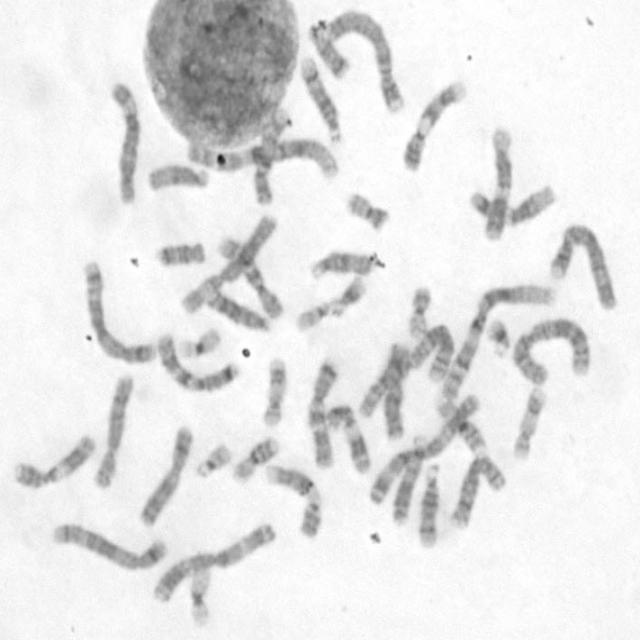A1: (437, 278, 559, 402), (184, 134, 341, 180)
A2: (354, 318, 455, 420), (508, 312, 592, 387)
A3: (366, 388, 482, 509), (147, 517, 278, 605)
B4: (323, 5, 408, 116), (546, 218, 620, 312)
B5: (80, 255, 158, 366), (49, 519, 170, 573)
C10: (214, 232, 288, 322), (246, 107, 292, 207)
C11: (11, 428, 98, 490), (320, 400, 372, 476)
C12: (464, 178, 559, 228), (480, 122, 515, 243)
C6: (178, 211, 278, 315), (105, 77, 143, 206)
C7: (152, 327, 239, 394), (305, 352, 340, 472)
C8: (89, 370, 136, 490), (446, 449, 508, 531)
C9: (398, 74, 469, 174), (261, 458, 324, 540)
D13: (388, 428, 428, 524), (202, 285, 272, 333)
D14: (296, 53, 343, 145), (414, 460, 443, 551)
D15: (306, 245, 378, 281), (143, 158, 212, 193)
E16: (432, 392, 491, 456), (228, 432, 280, 486)
E17: (510, 380, 548, 463), (257, 352, 289, 428)
E18: (305, 19, 352, 81), (153, 236, 208, 269)
F19: (184, 555, 214, 629), (174, 322, 222, 362)
F20: (341, 187, 392, 233), (403, 280, 433, 341)
G21: (330, 270, 368, 315), (483, 312, 513, 359)
G22: (293, 294, 341, 334), (192, 438, 232, 480)
X: (136, 421, 194, 529), (380, 337, 411, 440)
